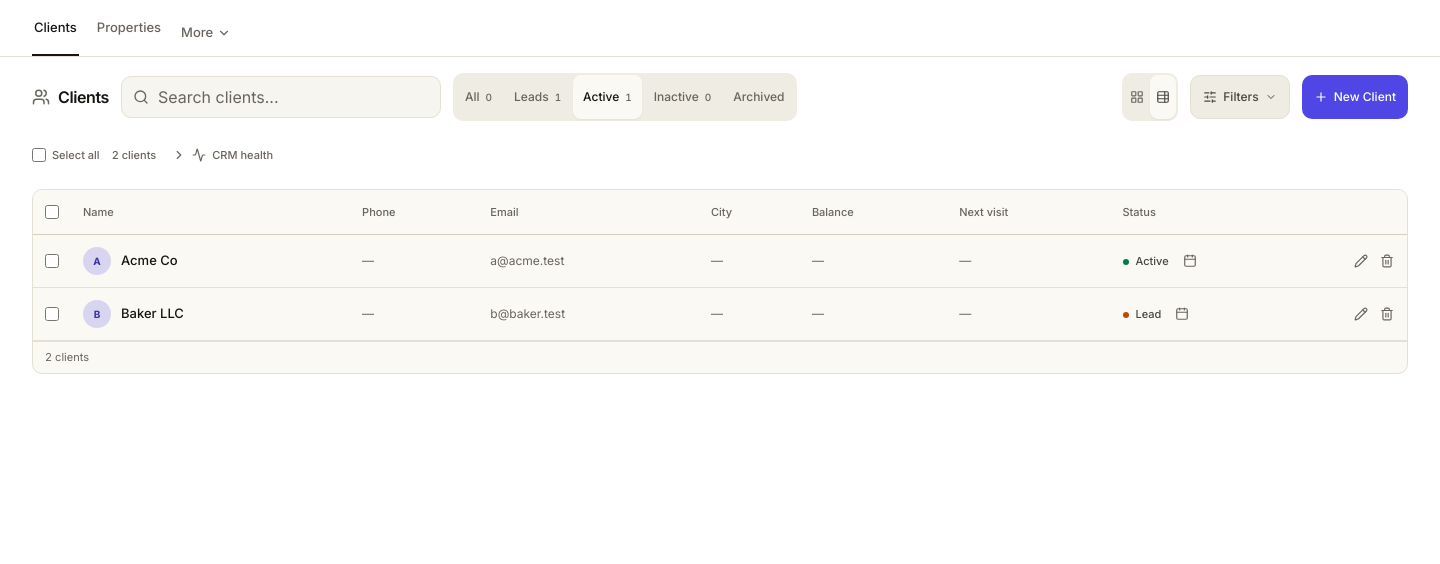
Test: Clients — CRM health stays lazy › scans once when expanded, and not again on collapse + re-expand
The width and height of the screenshot is (1440, 564).
Click the button "CRM health". click: coordinates (223, 155)
box: [172,133,273,177]
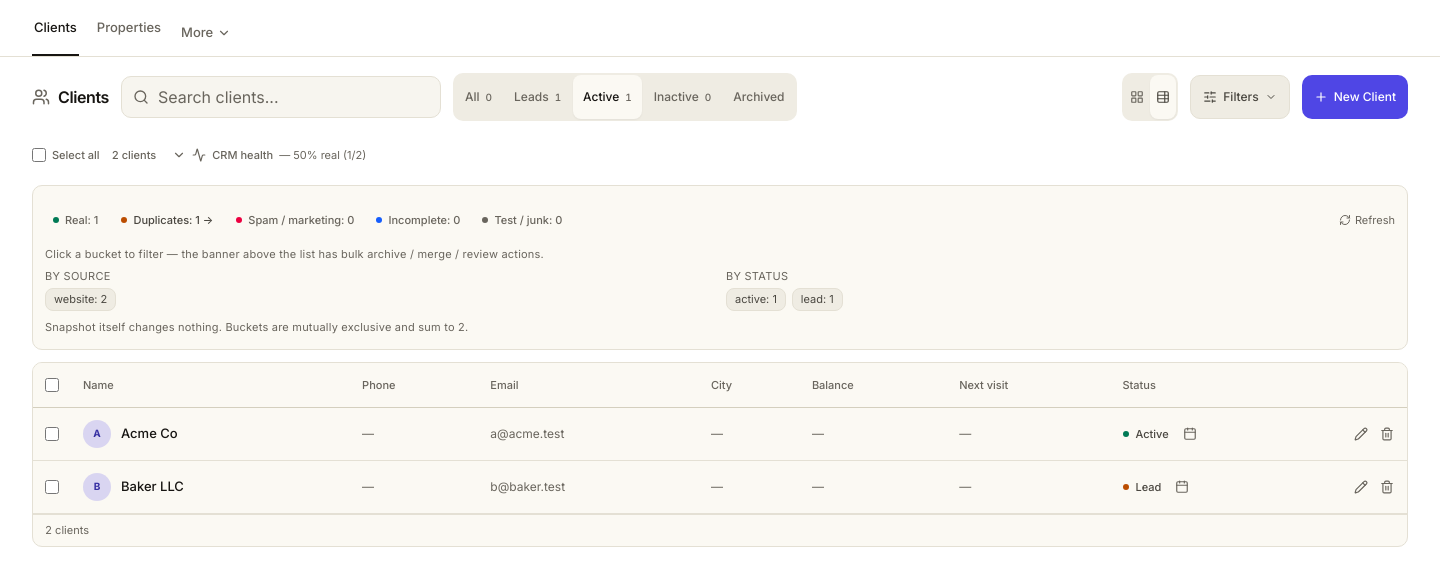
Click the button "CRM health — 50% real (1/2)". click: coordinates (269, 155)
box: [172,133,366,177]
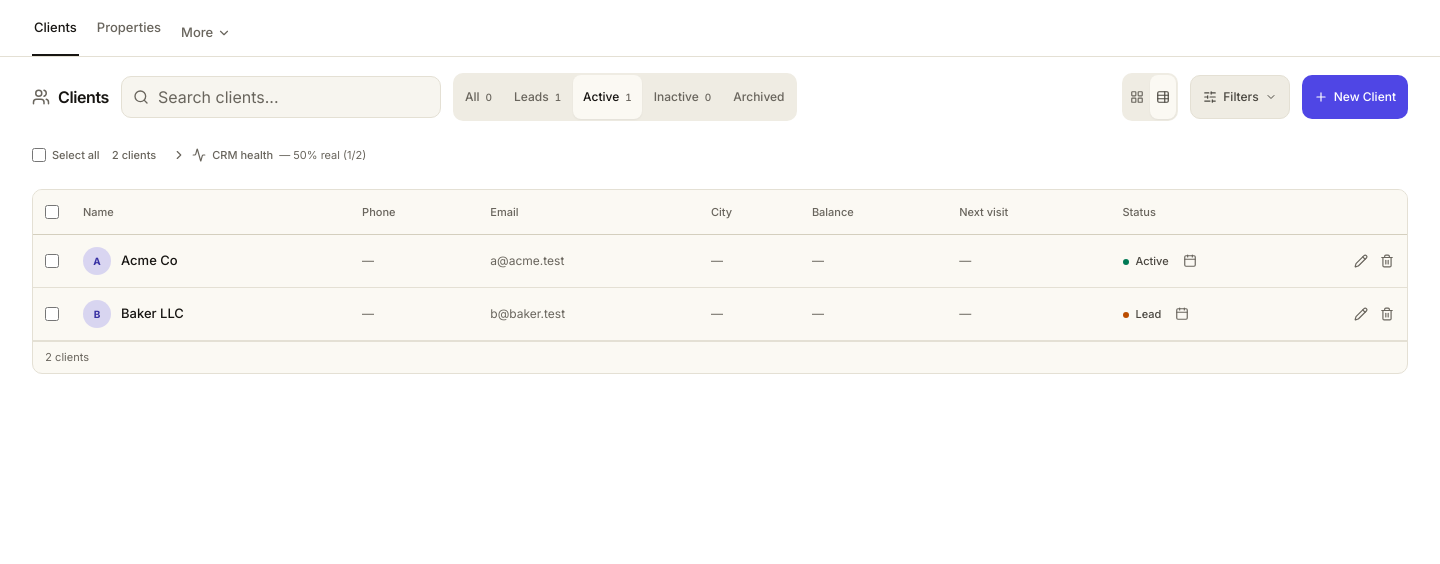
Click the button "CRM health — 50% real (1/2)". click: coordinates (269, 155)
box: [172,133,366,177]
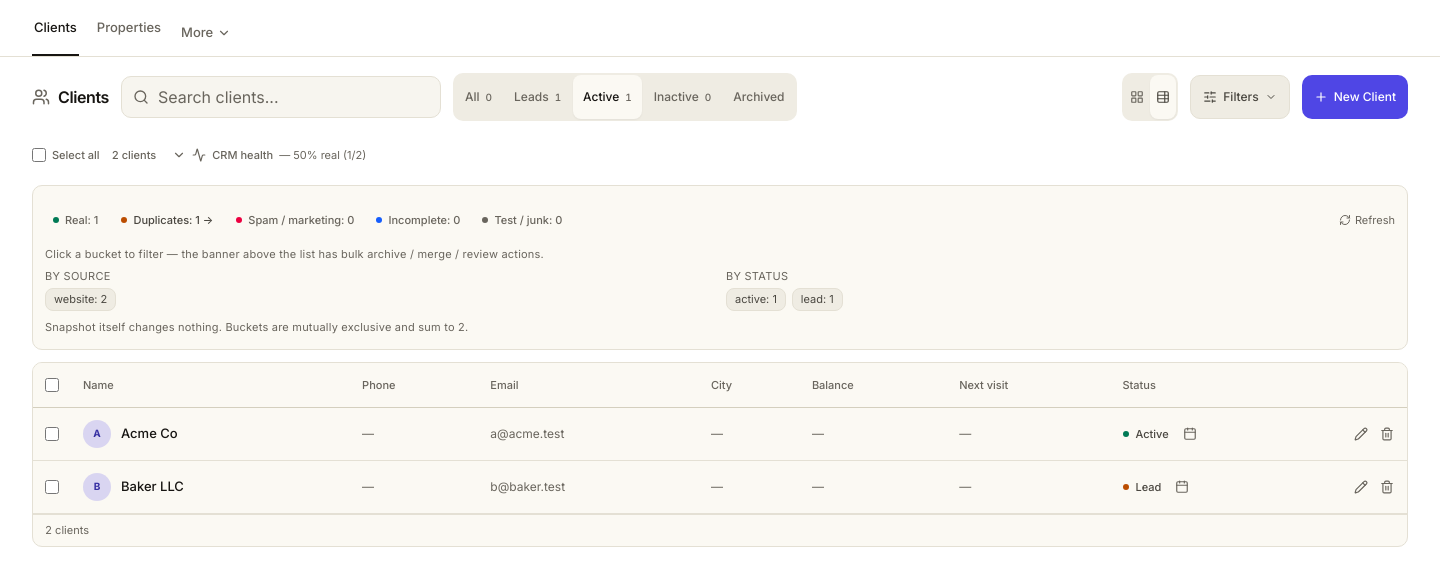
Check: the button "Duplicates: 1 →" is shown, box [112,198,222,242]
